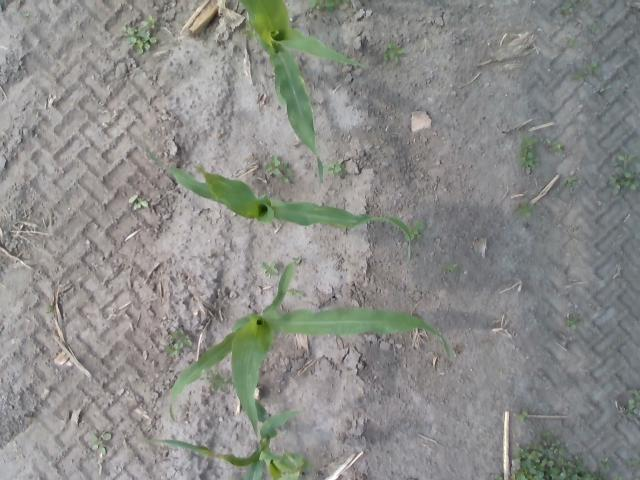Maize: (169, 263, 451, 438), (145, 148, 413, 260), (238, 0, 369, 188), (152, 409, 306, 480)
Weeds: (512, 436, 602, 480), (119, 18, 156, 56), (520, 134, 542, 178), (610, 171, 636, 194), (308, 0, 351, 12), (627, 388, 640, 422), (262, 158, 284, 177), (90, 434, 112, 453), (172, 329, 192, 348), (209, 372, 227, 391), (380, 44, 400, 61), (516, 202, 536, 218), (329, 160, 345, 178), (618, 152, 634, 169), (410, 223, 424, 242), (163, 343, 183, 356), (263, 259, 278, 276), (132, 197, 148, 212), (545, 140, 561, 154), (586, 61, 600, 77), (446, 260, 460, 276), (288, 288, 306, 298), (564, 176, 578, 188), (562, 3, 573, 17), (568, 314, 578, 328), (572, 69, 584, 80), (567, 36, 578, 47), (630, 455, 640, 467), (600, 457, 610, 468), (519, 412, 529, 422), (588, 24, 598, 34), (491, 473, 502, 480), (614, 475, 622, 480)
